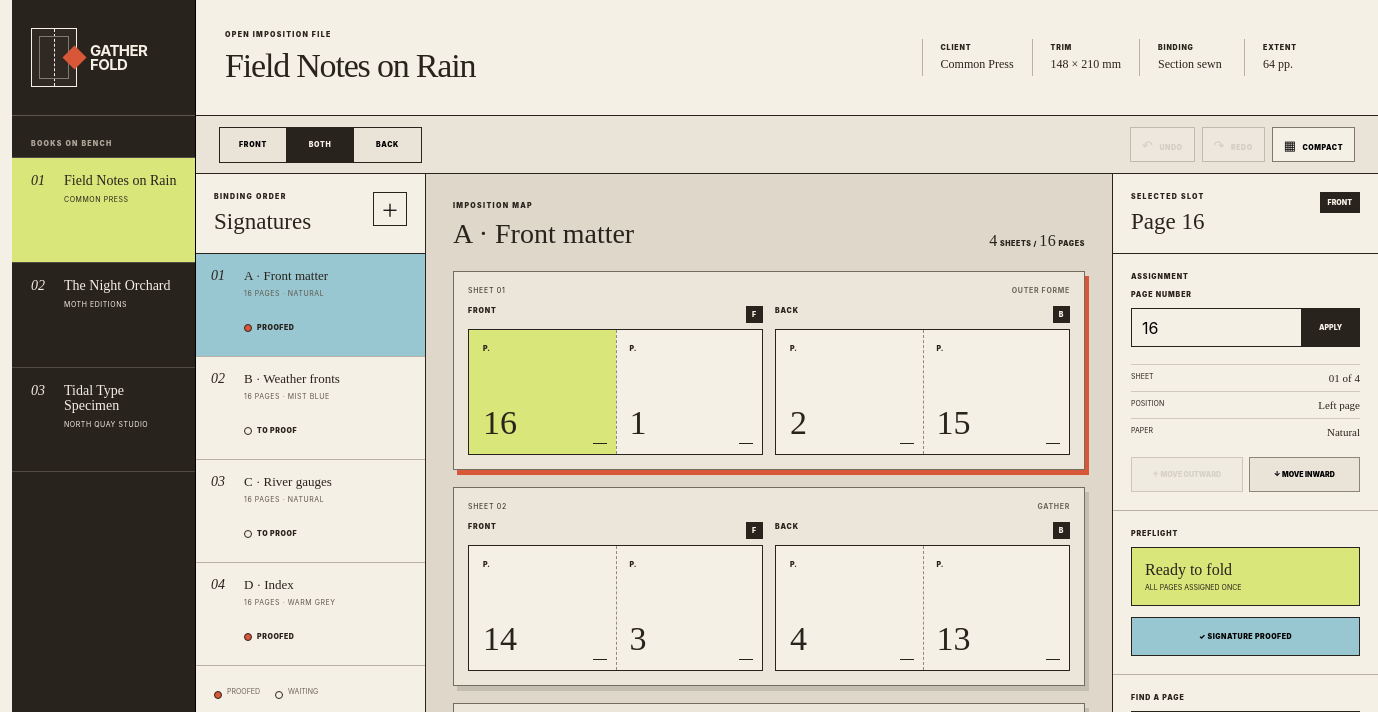
it: Gatherfold workbench › undoes and redoes a page edit
The width and height of the screenshot is (1378, 712).
Replace the text in the number field labelled "Page number" with "15" at [1216, 328], box left=1131, top=308, right=1302, bottom=347
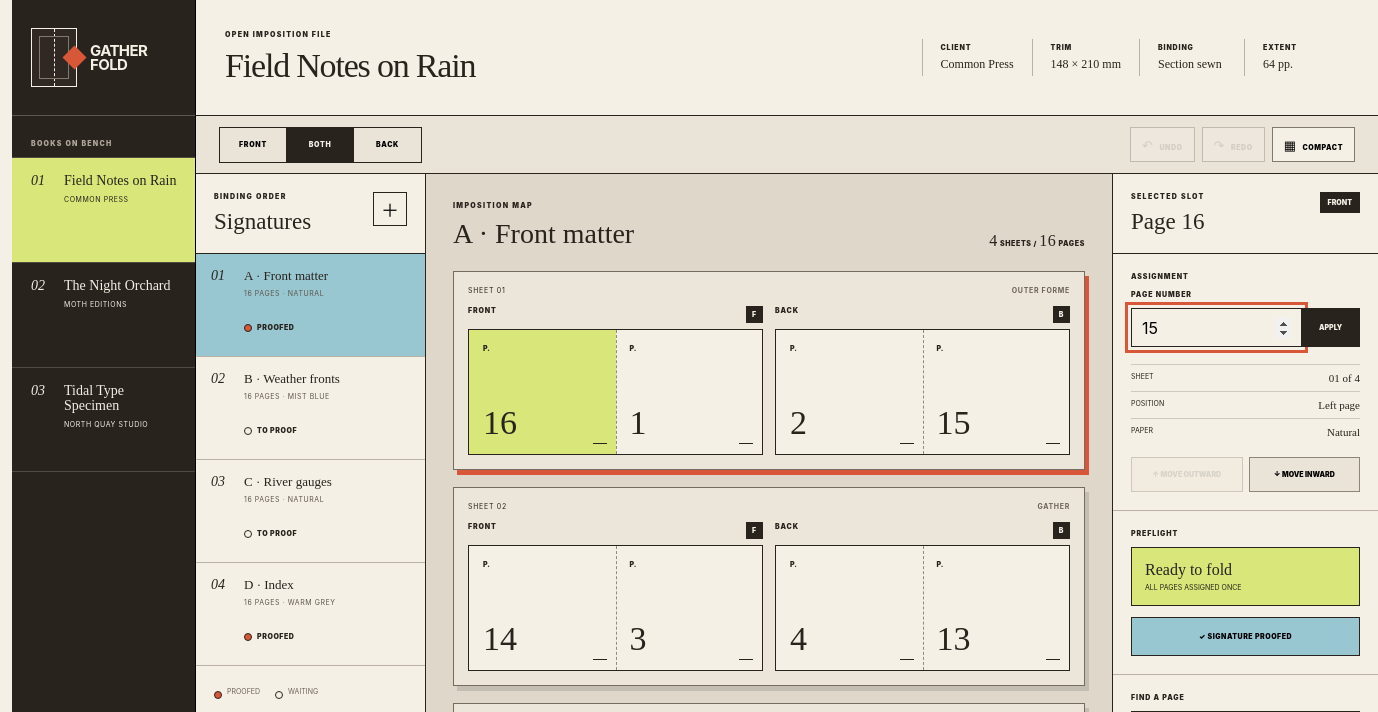
Click the button "Apply".
click(1331, 328)  # box left=1302, top=308, right=1360, bottom=347
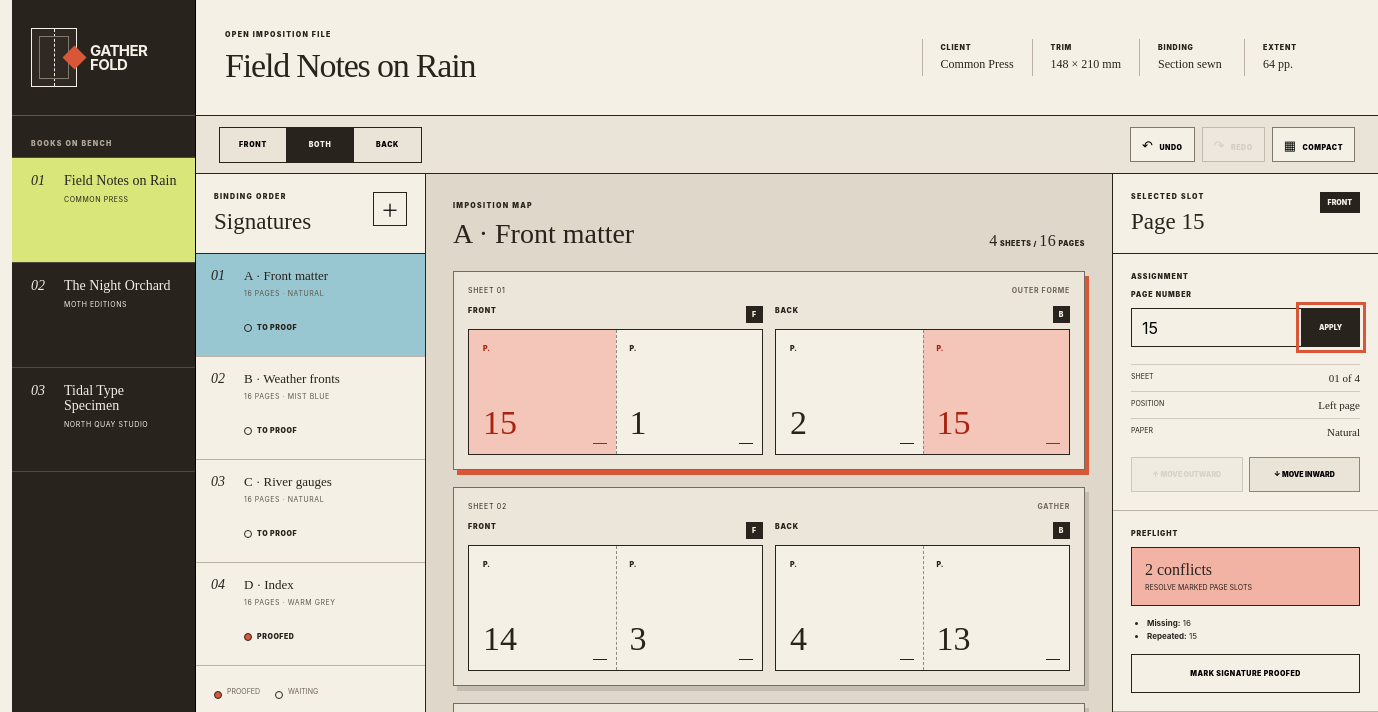
Click the button with aria-label "Undo last change".
click(1162, 144)  # box left=1130, top=127, right=1195, bottom=162
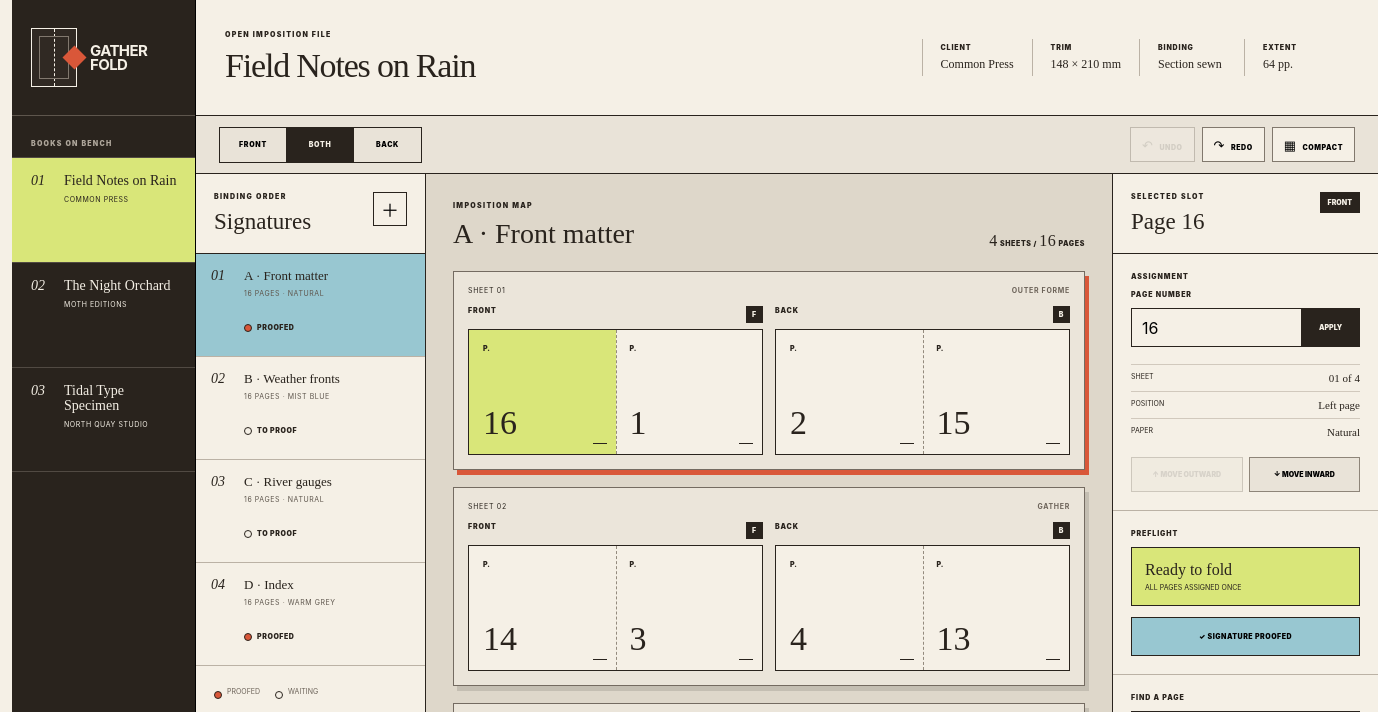
expect the heading "Page 16" is shown: met, box left=1131, top=209, right=1205, bottom=235
expect the text "Ready to fold" is shown: met, box left=1145, top=561, right=1232, bottom=578
Click the button with aria-label "Redo last change".
click(1233, 144)  # box left=1202, top=127, right=1265, bottom=162
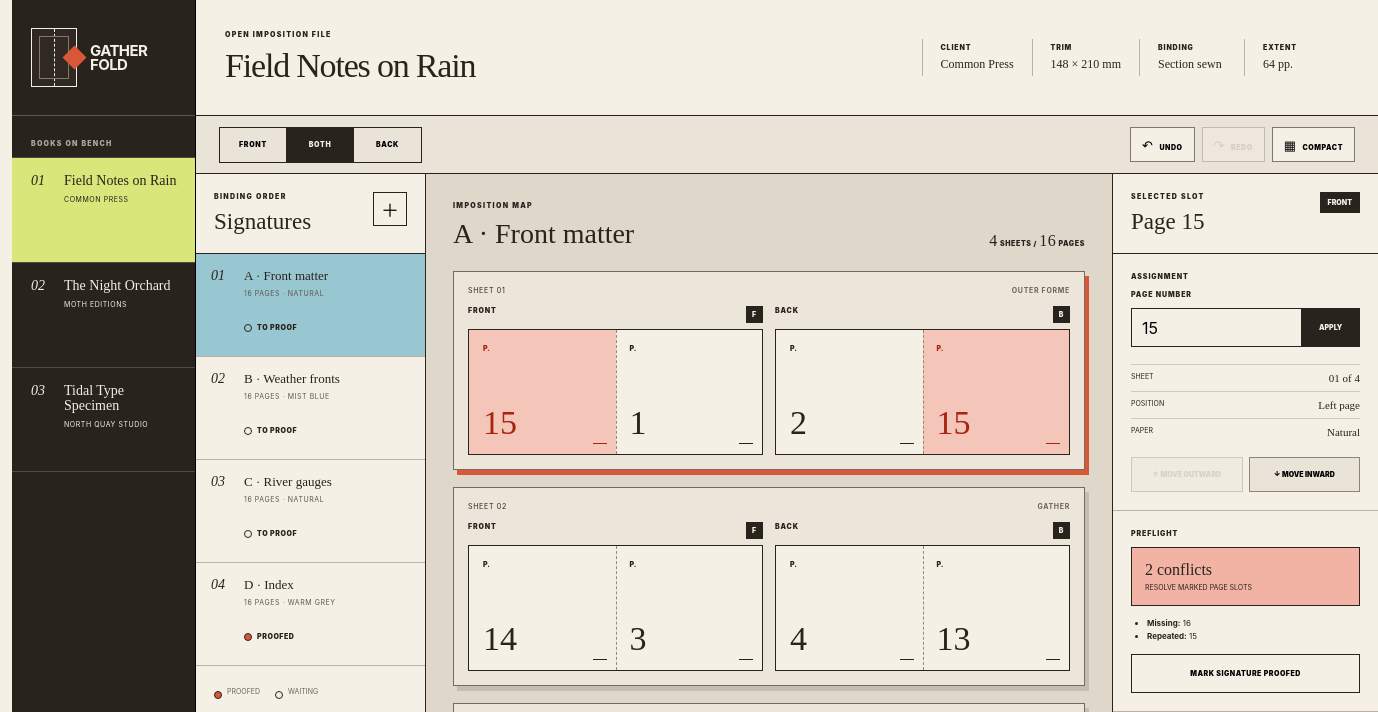
expect the heading "Page 15" is shown: met, box left=1131, top=209, right=1205, bottom=235
